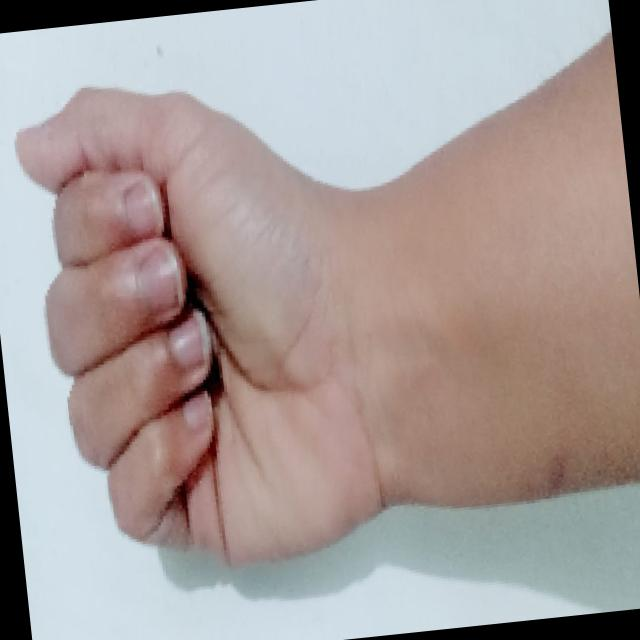Nail: (136, 242, 181, 306), (168, 310, 211, 368), (124, 181, 164, 236), (183, 389, 211, 429)
